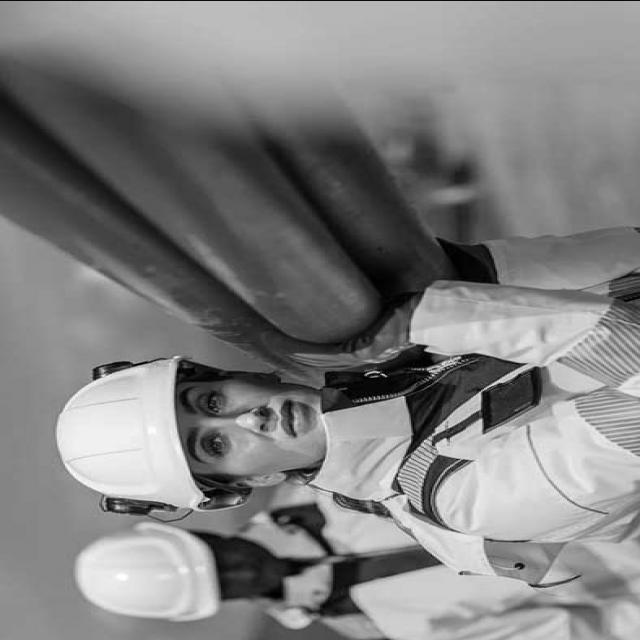safety_helmet: (58, 355, 210, 512), (76, 524, 226, 621)
